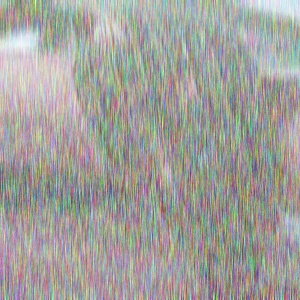Brown_Spot: (118, 128, 197, 192), (70, 1, 128, 62), (249, 177, 298, 234), (162, 65, 207, 108), (224, 230, 256, 253)
